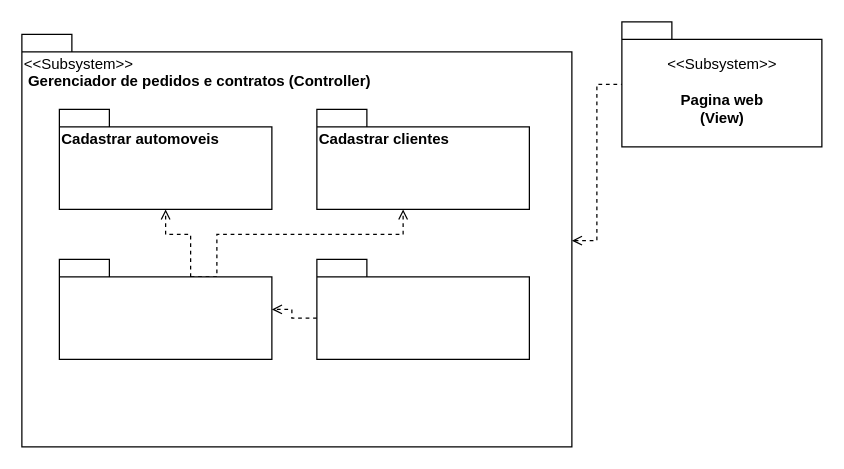
This 844x469 diagram has some shape labels left out. The box of each missing label's shape, as (x1, y1, x2, y2) in pixels:
Gerenciar solicitacao: (316, 258, 529, 359)
Solicitar aluguel: (58, 258, 272, 359)
